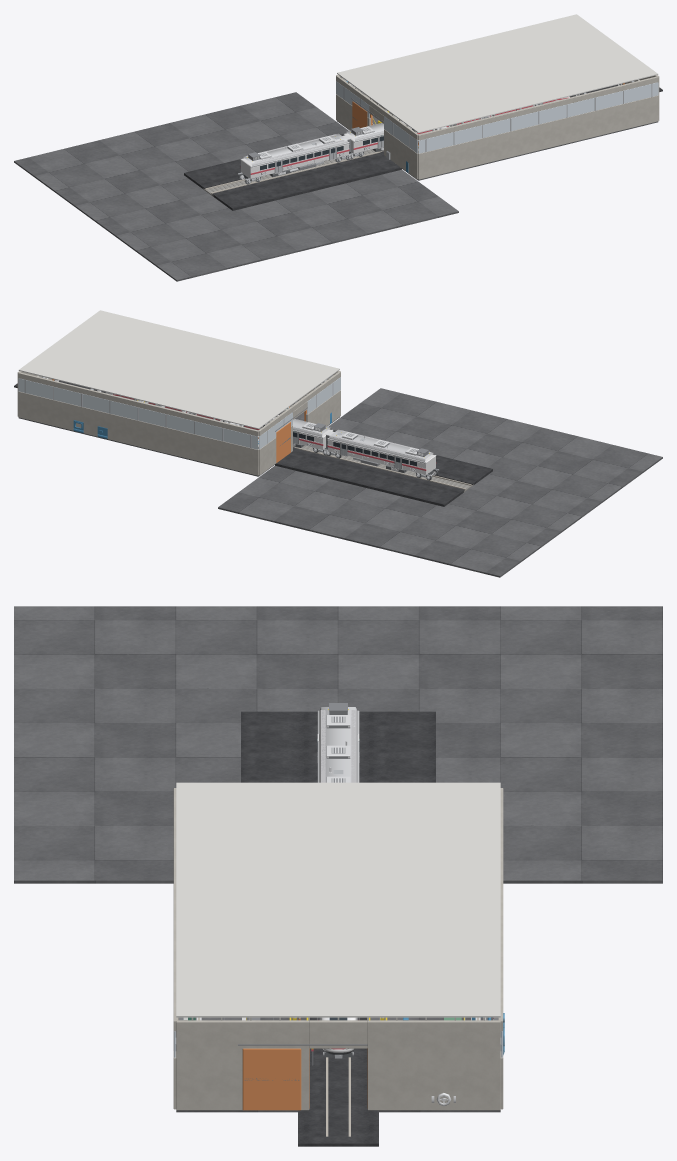
The model's file is szene.glb.
3 renders of one model, top to bottom at view 1: azimuth 30°, elevation 25°; view 2: azimuth 150°, elevation 25°; view 3: azimuth 270°, elevation 25°, orthographic. The views are drawn at different scales.
Parts seen in each view (by area): view 1: Tor_Vorfeld_West_Gelaende, Dach_Decke, Wand_Sued_Unten, Tor_Vorfeld_West_Sued, Wand_Sued_Fenster, Wand_Sued_Oben, Tor_Vorfeld_West_Nord, Wand_West_Unten_1, Triebzug_W3_Dachkrone, Triebzug_W3_Korpus, Wand_West_Oben, Wand_West_Unten_0 (+1 smaller); view 2: Tor_Vorfeld_West_Gelaende, Dach_Decke, Wand_Nord_Unten, Tor_Vorfeld_West_Nord, Wand_Nord_Fenster, Wand_Nord_Oben, Tor_Vorfeld_West_Sued, Triebzug_W3_Dachkrone, Triebzug_W3_Korpus, Wand_West_Unten_1, Wand_West_Oben, Wand_West_Unten_0 (+2 smaller); view 3: Tor_Vorfeld_West_Gelaende, Dach_Decke, Wand_Ost_Nord, Wand_Ost_Sued, Tor_Vorfeld_West_Nord, Tor_Vorfeld_West_Sued, Tor_Blatt, Halle_Gleiszone_Ost, Tor_Vorfeld, Wand_Ost_Sturz, Triebzug_W3_Dachkrone, Halle_Boden_Ost (+2 smaller).
Part boxes in pixels (x1,y1,x2,y2): Tor_Vorfeld_West_Gelaende: (14,92,458,281); Dach_Decke: (337,14,658,133); Wand_Sued_Unten: (418,95,658,179); Tor_Vorfeld_West_Sued: (212,152,401,210); Wand_Sued_Fenster: (418,82,658,153); Wand_Sued_Oben: (418,76,658,140); Tor_Vorfeld_West_Nord: (184,134,343,188); Wand_West_Unten_1: (384,129,418,179); Triebzug_W3_Dachkrone: (242,133,347,165); Triebzug_W3_Korpus: (241,142,348,178); Wand_West_Oben: (336,75,418,140); Wand_West_Unten_0: (336,94,370,130); Tor_Vorfeld_West_Gelaende: (218,388,662,577); Dach_Decke: (18,310,339,429); Wand_Nord_Unten: (18,391,258,475); Tor_Vorfeld_West_Nord: (275,448,464,506); Wand_Nord_Fenster: (18,378,258,449); Wand_Nord_Oben: (18,372,258,436); Tor_Vorfeld_West_Sued: (333,430,492,484); Triebzug_W3_Dachkrone: (329,429,434,461); Triebzug_W3_Korpus: (328,438,435,474); Wand_West_Unten_1: (306,390,340,426); Wand_West_Oben: (258,371,340,436); Wand_West_Unten_0: (258,425,292,475); Tor_Vorfeld_West_Gelaende: (14,606,662,883); Dach_Decke: (176,782,500,1017); Wand_Ost_Nord: (367,1020,500,1110); Wand_Ost_Sued: (176,1020,309,1110); Tor_Vorfeld_West_Nord: (359,711,435,782); Tor_Vorfeld_West_Sued: (241,711,317,782); Tor_Blatt: (242,1048,301,1110); Halle_Gleiszone_Ost: (309,1017,367,1109); Tor_Vorfeld: (298,1109,378,1146); Wand_Ost_Sturz: (309,1020,367,1048); Triebzug_W3_Dachkrone: (319,707,357,782); Halle_Boden_Ost: (176,1017,500,1112).
Bounding box in the file's own units: 79 × 7.11 × 40.
44 materials, 11 textured.
